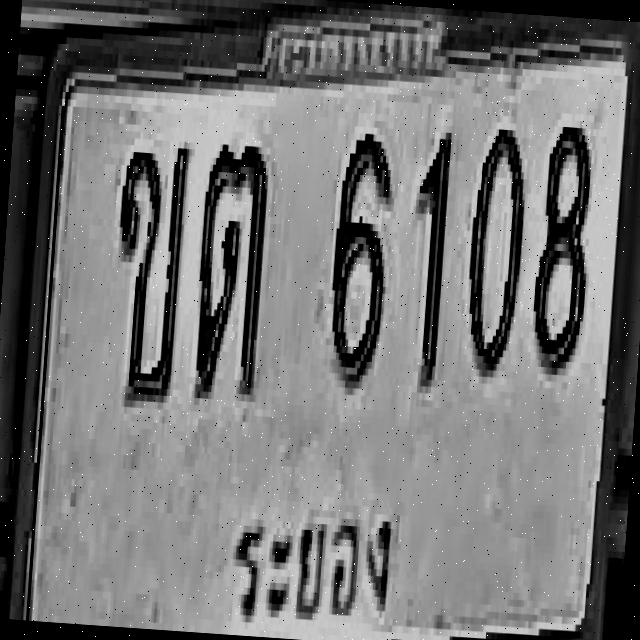0: (449, 103, 540, 430)
1: (403, 110, 480, 442)
11KhorKhai: (92, 104, 200, 458)
30TorTao: (180, 115, 293, 442)
6: (309, 112, 415, 416)
8: (514, 90, 610, 462)
Rayong: (187, 446, 509, 640)
